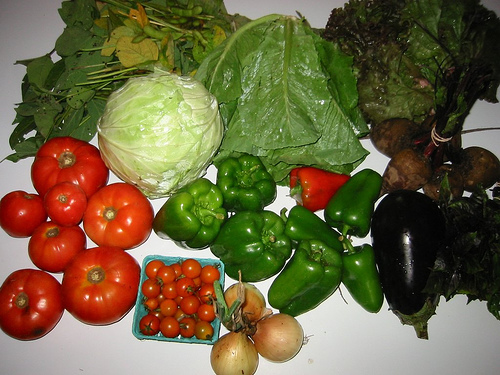cabbage: (187, 9, 380, 197), (95, 65, 225, 199)
